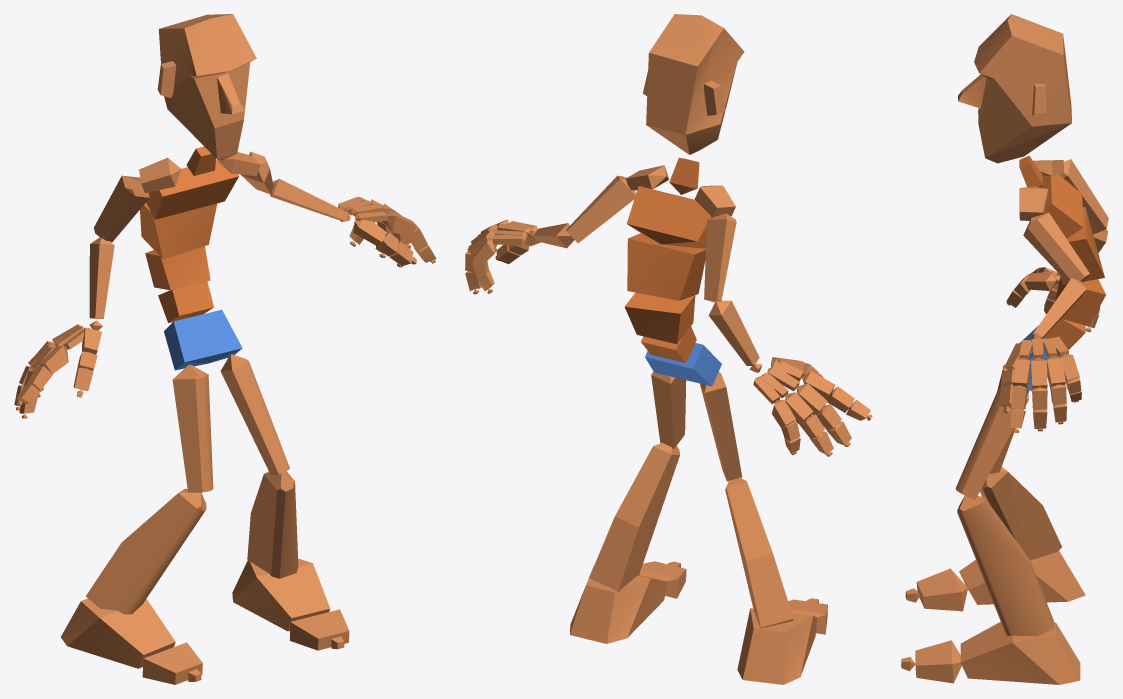
The model's file is prueba26.obj.
3 views of the same model, side by side, from view 1: azimuth 30°, elevation 25°; view 2: azimuth 150°, elevation 25°; view 3: azimuth 270°, elevation 25° (orthographic).
Visible parts, largest first — view 1: BOPED_Head, BOPED_R_leg, BOPED_R_foot, BOPED_L_leg, BOPED_R_foot01, BOPED_R_legup, BOPED_L_legup, Bone01, Bone04, Bone05, Bone03, BOPED_R_arm_upper (+8 smaller); view 2: BOPED_Head, BOPED_L_leg, BOPED_R_leg, BOPED_R_foot01, BOPED_R_foot, Bone04, Bone05, Bone03, BOPED_R_legup, BOPED_R_arm_upper, BOPED_L_legup, BOPED_L_arm_upper (+9 smaller); view 3: BOPED_Head, BOPED_L_leg, BOPED_R_foot01, BOPED_R_leg, BOPED_L_legup, BOPED_R_foot, BOPED_L_arm_upper, Bone05, BOPED_R_foot_toe01, BOPED_R_foot_toe04, Bone04, BOPED_R_arm_upper (+14 smaller).
Part boxes in pixels (left/top/right/bottom): BOPED_Head: left=157, top=14, right=256, bottom=160; BOPED_R_leg: left=86, top=488, right=206, bottom=614; BOPED_R_foot: left=61, top=598, right=175, bottom=668; BOPED_L_leg: left=247, top=471, right=298, bottom=578; BOPED_R_foot01: left=232, top=558, right=330, bottom=631; BOPED_R_legup: left=172, top=364, right=213, bottom=492; BOPED_L_legup: left=220, top=354, right=289, bottom=475; Bone01: left=164, top=309, right=242, bottom=370; Bone04: left=140, top=202, right=217, bottom=259; Bone05: left=146, top=159, right=238, bottom=219; Bone03: left=145, top=246, right=210, bottom=290; BOPED_R_arm_upper: left=94, top=175, right=149, bottom=242; BOPED_Head: left=643, top=14, right=744, bottom=154; BOPED_L_leg: left=589, top=443, right=679, bottom=591; BOPED_R_leg: left=725, top=477, right=793, bottom=628; BOPED_R_foot01: left=570, top=565, right=667, bottom=643; BOPED_R_foot: left=737, top=608, right=817, bottom=684; Bone04: left=627, top=233, right=705, bottom=300; Bone05: left=626, top=186, right=712, bottom=248; Bone03: left=624, top=292, right=695, bottom=344; BOPED_R_legup: left=700, top=372, right=742, bottom=481; BOPED_R_arm_upper: left=704, top=213, right=736, bottom=302; BOPED_L_legup: left=651, top=372, right=686, bottom=448; BOPED_L_arm_upper: left=566, top=175, right=635, bottom=243; BOPED_Head: left=958, top=14, right=1071, bottom=163; BOPED_L_leg: left=957, top=495, right=1054, bottom=636; BOPED_R_foot01: left=960, top=621, right=1080, bottom=684; BOPED_R_leg: left=980, top=467, right=1061, bottom=560; BOPED_L_legup: left=955, top=383, right=1028, bottom=499; BOPED_R_foot: left=959, top=551, right=1085, bottom=604; BOPED_L_arm_upper: left=1023, top=212, right=1089, bottom=282; Bone05: left=1041, top=174, right=1083, bottom=238; BOPED_R_foot_toe01: left=916, top=568, right=967, bottom=611; BOPED_R_foot_toe04: left=915, top=640, right=961, bottom=683; Bone04: left=1060, top=207, right=1104, bottom=285; BOPED_R_arm_upper: left=1059, top=159, right=1108, bottom=234.
Size of the model in its own units: 130 by 187 by 57.21.
